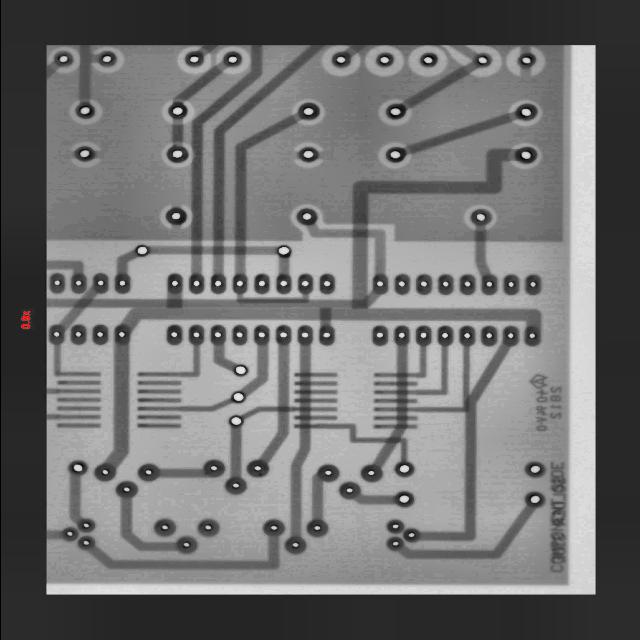Both: (303, 516, 329, 542), (151, 516, 176, 539), (384, 100, 408, 122), (245, 459, 269, 479), (174, 535, 197, 555), (294, 207, 317, 226), (316, 464, 339, 483), (359, 464, 381, 483), (136, 464, 159, 482), (514, 103, 537, 121), (93, 463, 114, 482), (112, 324, 131, 345), (165, 207, 186, 226), (221, 50, 242, 69), (330, 50, 351, 69), (514, 146, 536, 164), (59, 525, 79, 544), (197, 519, 218, 537), (69, 273, 87, 294), (262, 519, 283, 537), (284, 537, 305, 555), (385, 146, 406, 164), (202, 460, 224, 477), (69, 325, 87, 345), (96, 50, 116, 68), (47, 324, 64, 345), (113, 273, 130, 294), (91, 273, 108, 294), (230, 325, 247, 346), (318, 274, 335, 295), (523, 325, 540, 346), (230, 361, 249, 379), (225, 477, 245, 494), (91, 325, 108, 345), (298, 103, 318, 120), (115, 482, 136, 498), (318, 325, 334, 346), (393, 325, 409, 346), (228, 389, 246, 407), (48, 273, 64, 293), (296, 325, 312, 345), (339, 483, 359, 499), (458, 326, 474, 346), (502, 326, 518, 346), (470, 209, 491, 224), (275, 326, 291, 345), (394, 461, 413, 477), (415, 275, 431, 294), (253, 274, 268, 294), (188, 274, 203, 294), (167, 274, 182, 294), (74, 146, 94, 161), (166, 147, 186, 162), (394, 491, 412, 507), (480, 327, 496, 345), (525, 492, 543, 508), (185, 51, 203, 67), (253, 326, 268, 345), (297, 275, 312, 294), (275, 275, 290, 294), (503, 275, 518, 294), (481, 275, 496, 294), (459, 275, 474, 294), (372, 326, 387, 345), (415, 326, 430, 345), (298, 147, 317, 162), (54, 51, 71, 67), (188, 326, 203, 344), (210, 275, 225, 293), (375, 52, 393, 67), (517, 53, 535, 68), (68, 461, 87, 475), (167, 326, 181, 345), (233, 275, 247, 294), (438, 275, 452, 294), (394, 275, 408, 294), (372, 275, 386, 294), (438, 326, 452, 345), (525, 463, 544, 477), (133, 243, 150, 258), (76, 103, 93, 118), (210, 326, 224, 344), (386, 520, 404, 534), (401, 528, 419, 542), (525, 276, 539, 294), (168, 104, 186, 118), (419, 53, 437, 67), (77, 519, 94, 532), (386, 537, 403, 550), (474, 54, 490, 67), (276, 245, 291, 258), (77, 537, 93, 549), (228, 415, 243, 427)
L1: (45, 290, 381, 311), (301, 221, 390, 277), (331, 419, 413, 464), (416, 345, 469, 413), (417, 344, 448, 395), (147, 246, 278, 255), (109, 243, 140, 279), (239, 401, 293, 420), (180, 397, 233, 411), (179, 344, 199, 377), (450, 40, 478, 61), (416, 345, 425, 378), (52, 343, 60, 377), (373, 372, 416, 378), (277, 255, 289, 276), (55, 423, 101, 428), (291, 407, 336, 412), (373, 398, 417, 403), (319, 308, 330, 328), (293, 424, 336, 429), (373, 424, 416, 429), (373, 381, 416, 386), (137, 372, 179, 377), (294, 381, 336, 386), (59, 372, 100, 377), (136, 407, 181, 411), (55, 415, 100, 419), (136, 398, 180, 402), (56, 389, 100, 393), (56, 381, 100, 385), (373, 416, 417, 420), (373, 408, 417, 412), (373, 391, 417, 395), (137, 415, 180, 419), (137, 389, 180, 393), (137, 381, 180, 385), (56, 407, 99, 411), (56, 398, 99, 402), (293, 416, 336, 420), (293, 399, 336, 403), (293, 390, 336, 394), (294, 373, 337, 377), (137, 424, 180, 427), (45, 388, 57, 394), (45, 414, 56, 419)
L2: (291, 87, 532, 316), (159, 20, 322, 279), (147, 32, 270, 279), (417, 333, 511, 550), (193, 96, 303, 278), (119, 305, 540, 334), (395, 505, 537, 559), (369, 342, 423, 473), (85, 535, 279, 570), (100, 491, 181, 572), (401, 110, 519, 156), (399, 59, 479, 112), (258, 342, 292, 465), (290, 343, 310, 538), (102, 341, 129, 469), (170, 58, 230, 109), (238, 339, 274, 400), (57, 285, 99, 332), (204, 339, 239, 378), (469, 223, 491, 278), (78, 47, 99, 104), (65, 471, 83, 526), (351, 492, 398, 508), (235, 294, 309, 303), (45, 260, 83, 277), (310, 473, 323, 520), (230, 425, 241, 478), (343, 37, 368, 59), (157, 469, 207, 478), (40, 60, 59, 79), (172, 117, 183, 147), (166, 293, 181, 309), (45, 530, 63, 540)
